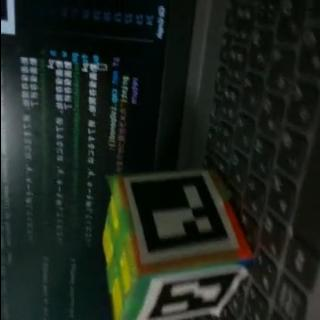armor: (120, 172, 238, 262), (134, 270, 246, 318)
robot: (97, 169, 250, 320)
